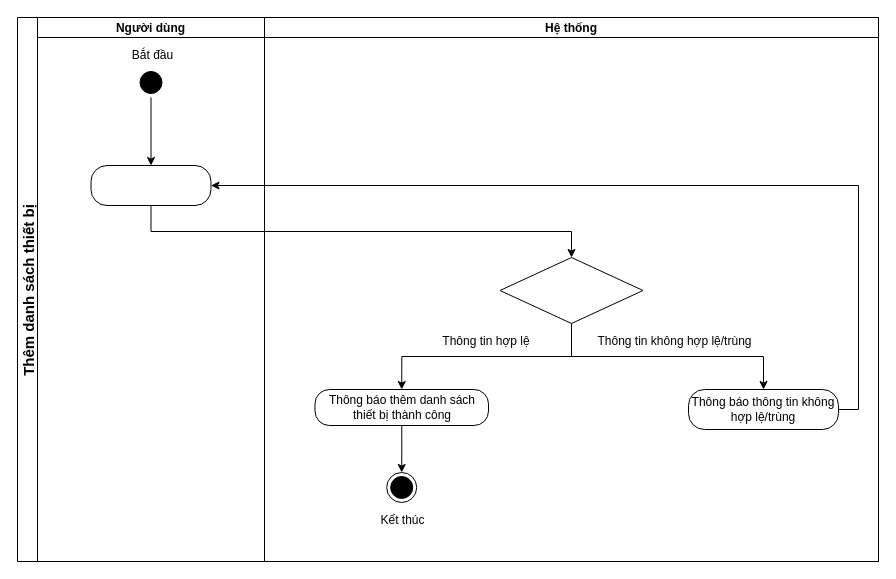
This 896x579 diagram has some shape labels left out. The centre of each missing label's shape, as x and y in pixels:
Kiểm tra tính hợp lệ: the point at 571,290
Nhập thông tin danh sách thiết bị: the point at 150,185
